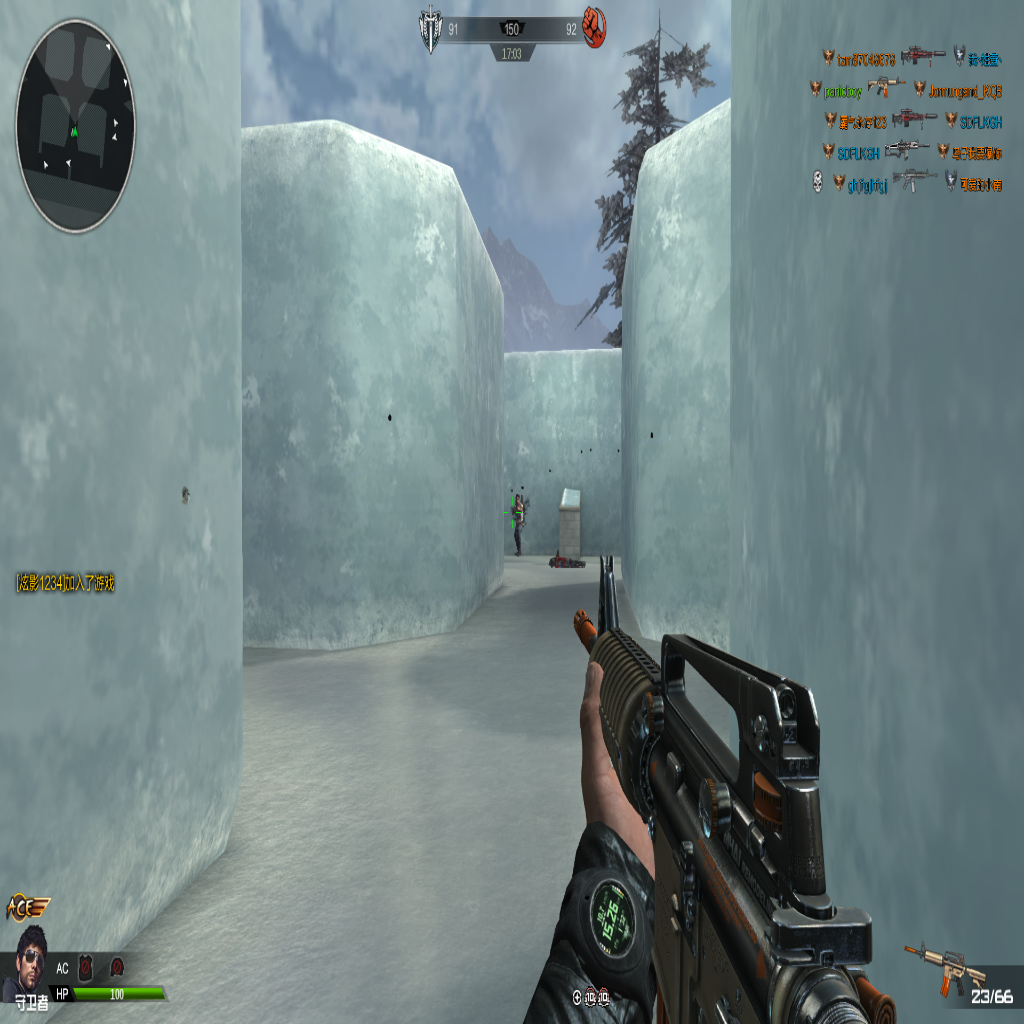tt: (510, 489, 525, 557)
